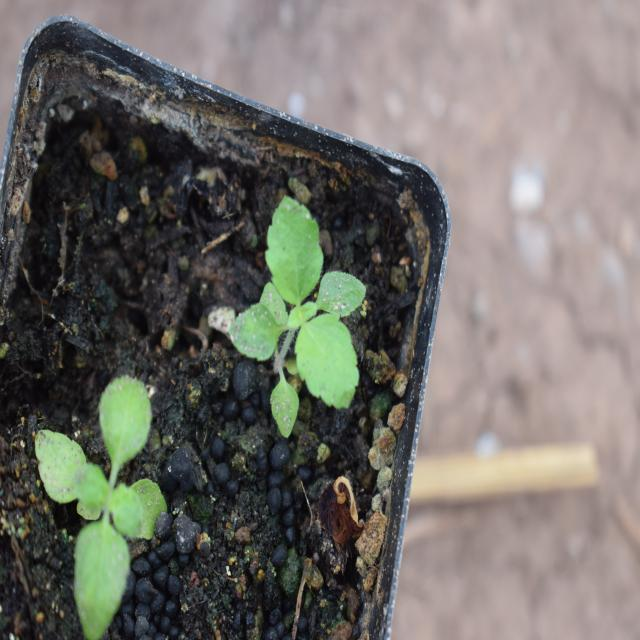billygoat_weed: (235, 176, 372, 457), (45, 374, 189, 639)
